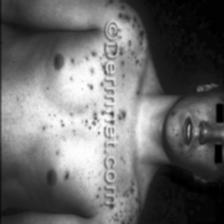Non-Cancerous Skin Condition: (111, 2, 140, 85), (78, 46, 104, 136), (101, 176, 146, 224), (115, 108, 129, 134), (172, 110, 180, 113)
